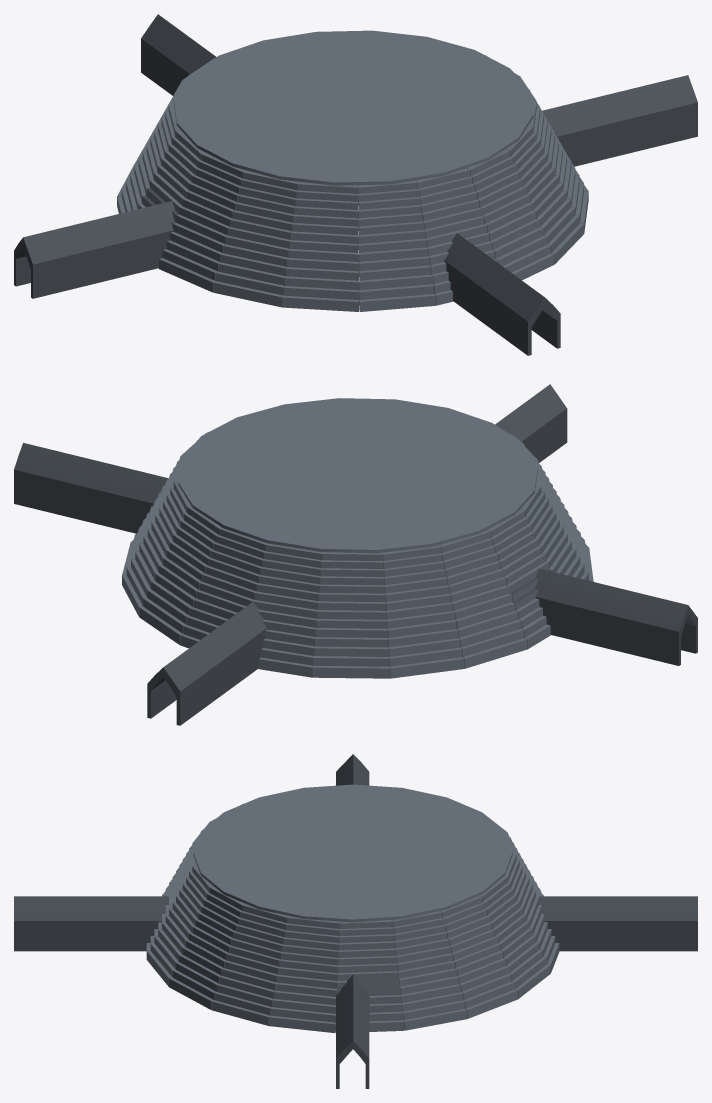
File: HubWorld_Top.fbx
3 views of the same model, one above another, from view 1: azimuth 30°, elevation 25°; view 2: azimuth 150°, elevation 25°; view 3: azimuth 270°, elevation 25° (orthographic). The views are drawn at different scales.
Visible parts, largest first — view 1: pCube60; view 2: pCube60; view 3: pCube60.
Part boxes in pixels (left/top/right/bottom): pCube60: left=14, top=14, right=697, bottom=355; pCube60: left=14, top=384, right=697, bottom=725; pCube60: left=14, top=754, right=697, bottom=1088.
Size of the model in its own units: 20.3 by 3.08 by 20.46.
